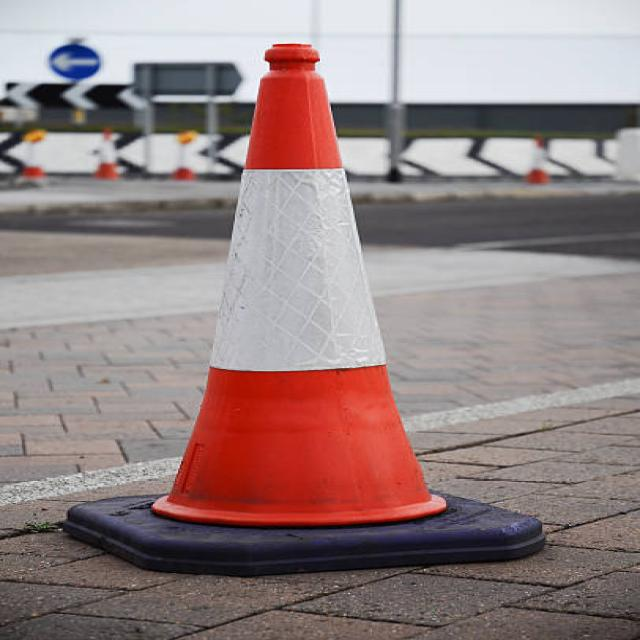Traffic Cone: (50, 24, 578, 591)
